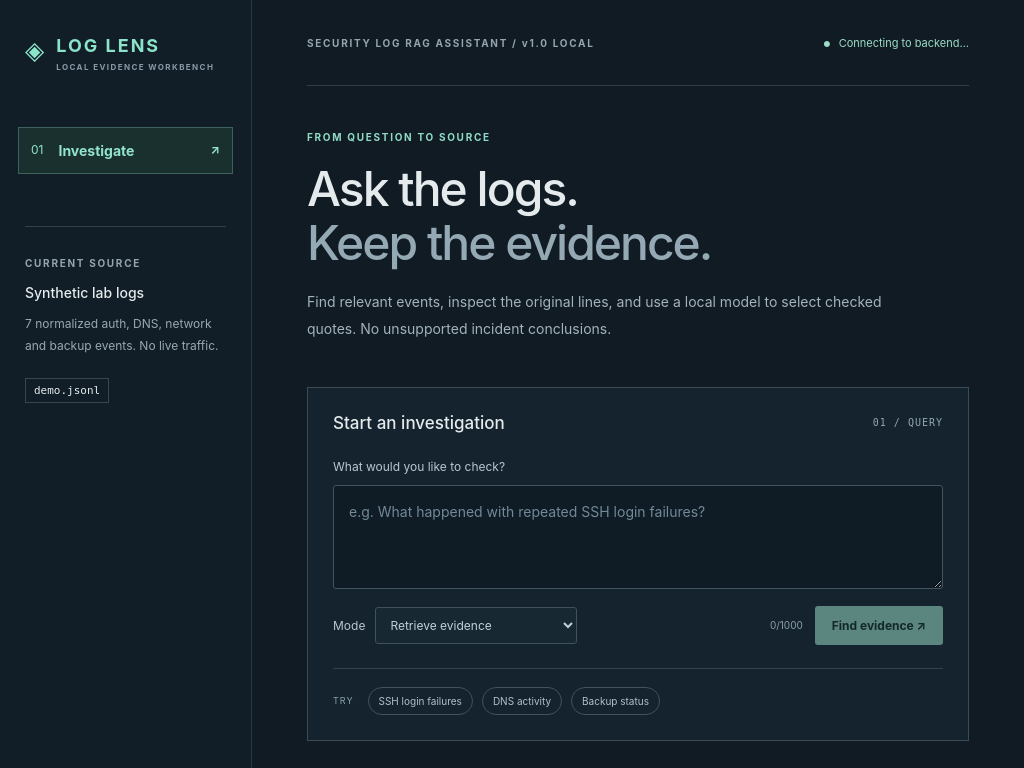
Test: evidence workbench › requires a question and fills a sample prompt
The width and height of the screenshot is (1024, 768).
Check: the button "Find evidence ↗" is disabled, box [815,606,943,645]
What coordinates should you click on to do the following:
click the button "SSH login failures"
I would click on:
 (420, 701)
Its box is [368,687,473,715].
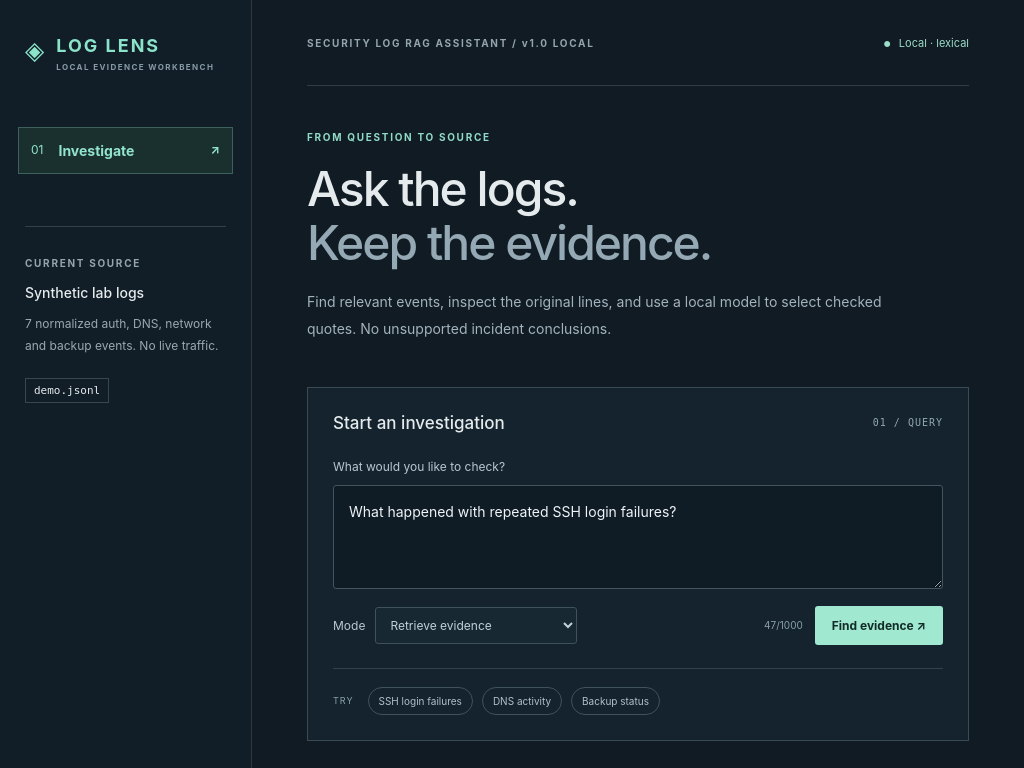
Check: the text "Local · lexical" is shown, box [884,36,969,50]
